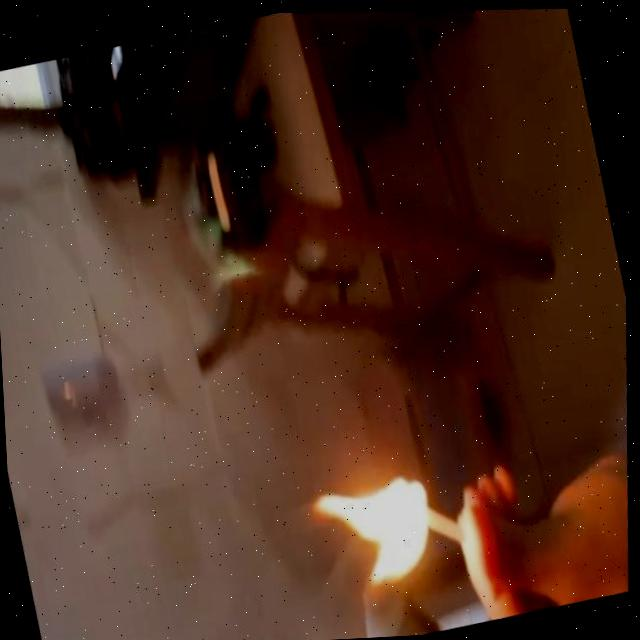fire: (301, 456, 459, 607)
